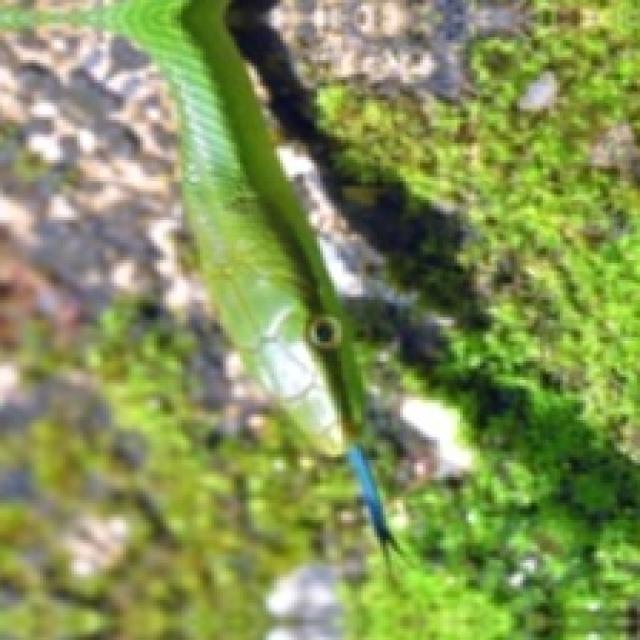red-tailed green ratsnake: (0, 0, 394, 546)
